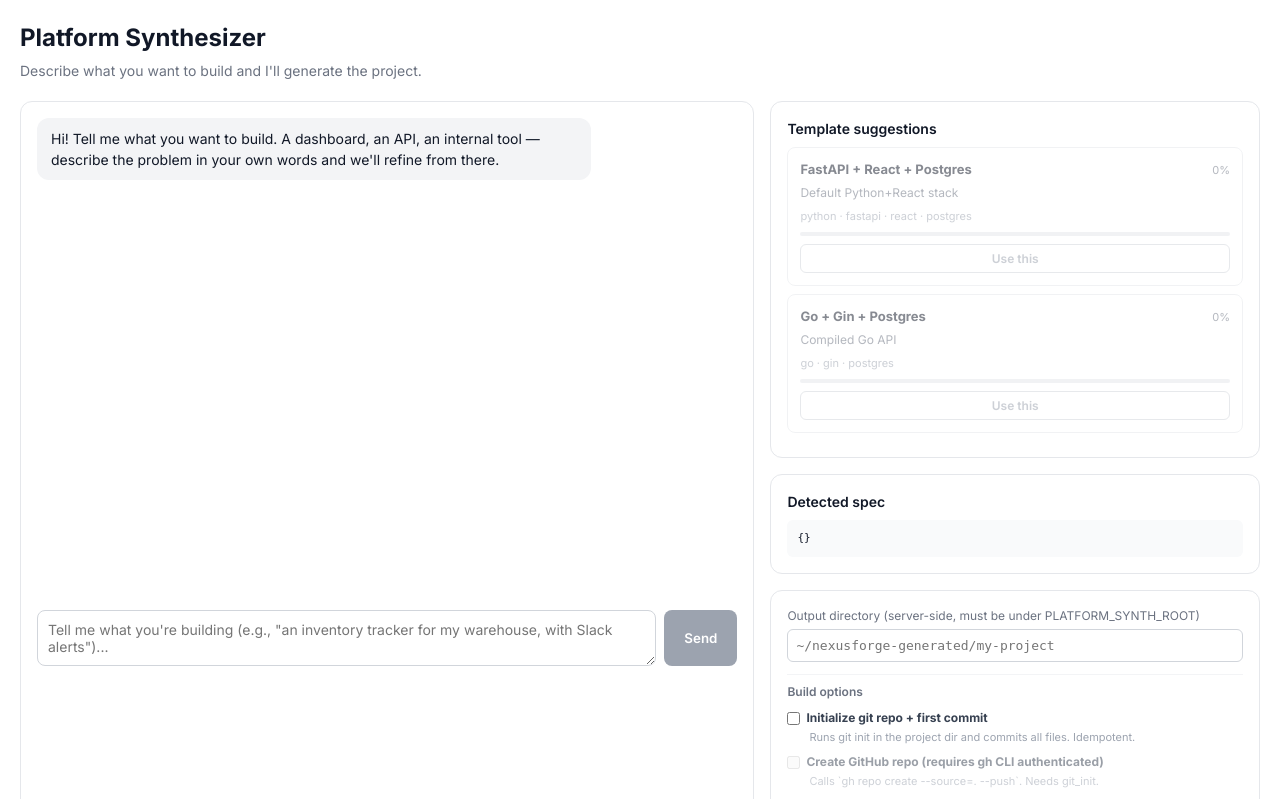
Test: PlatformSynthPage — template selection + build flow › GitHub repo checkbox is disabled when git_init is OFF
Expected: the text "FastAPI + React + Postgres" is shown, 800,160 -> 972,180
What coordinates should you click on to do the following:
click the checkbox labelled "Initialize git repo"
I would click on:
 (794, 718)
Its box is 787,712 -> 800,725.
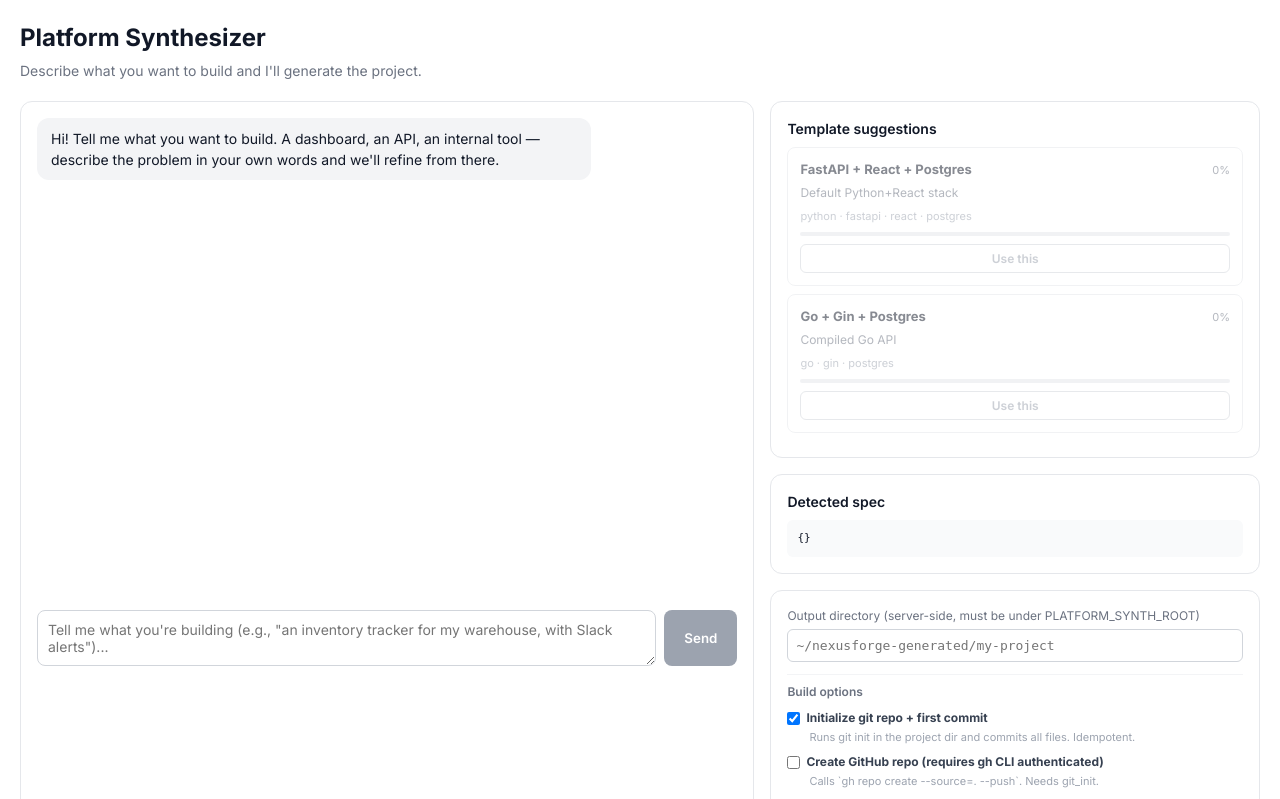
Expected: the checkbox labelled "Create GitHub repo" is enabled, 787,756 -> 800,769
